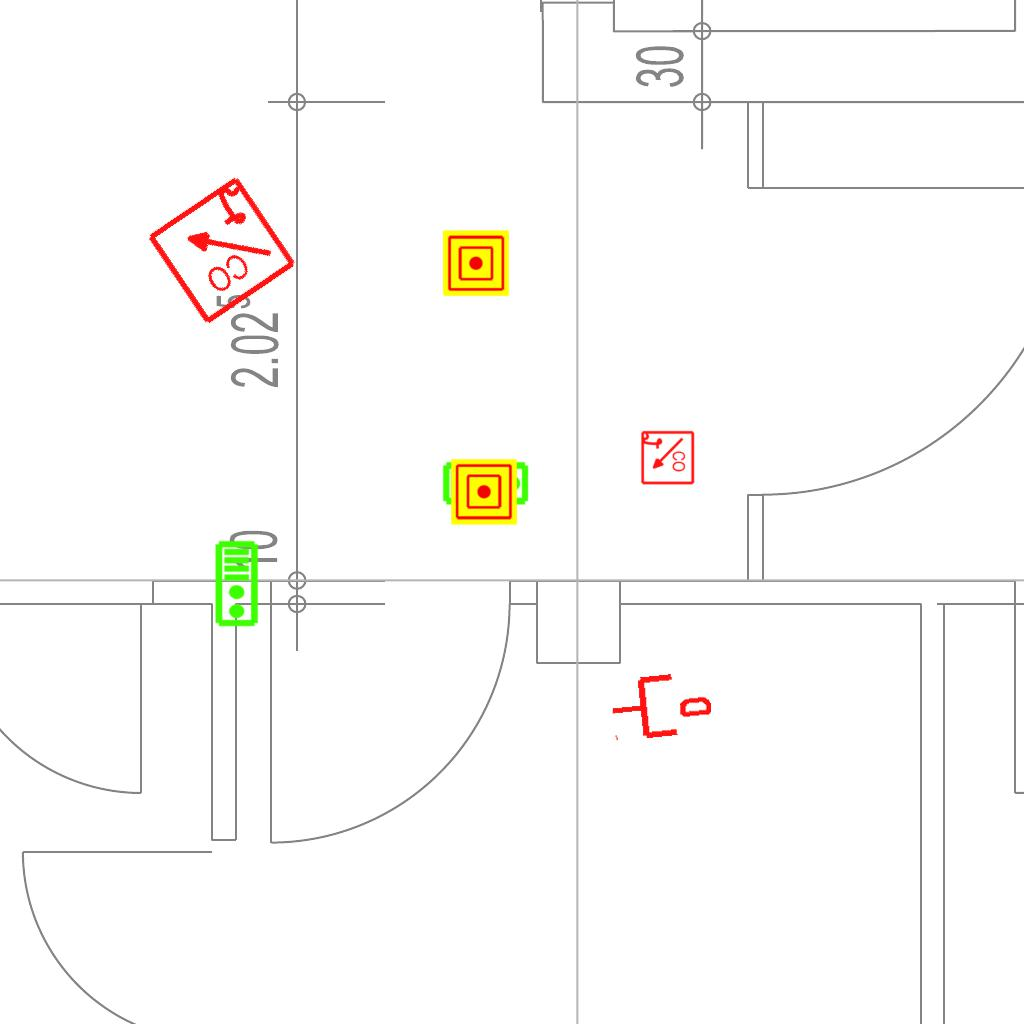Datenanschluss_einfach: (607, 666, 714, 746)
Gegensprechanlage_mit_Video: (214, 540, 261, 628), (442, 459, 530, 506)
NAM-Nichtautomatischer_Melder: (443, 230, 509, 296), (451, 459, 517, 525)
ROA_Rauchmelder_optisch_mit_Signalgeber_(Sockelsirene): (142, 171, 299, 328), (639, 430, 695, 486)
